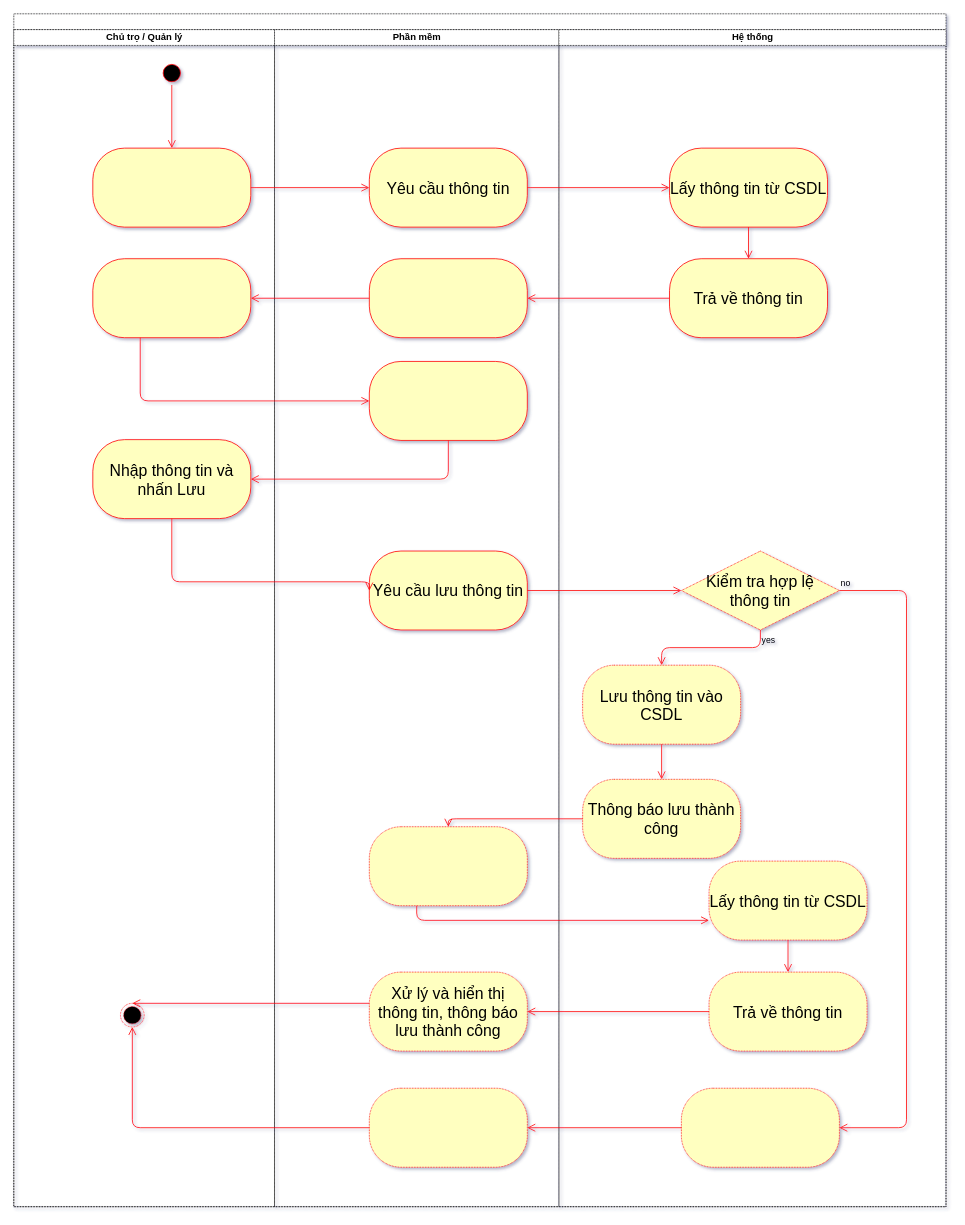
Some shapes in this 965 by 1225 pixel diagram are drawn without their labels. The centre of each missing label's shape, as x and y in pixels:
"Chọn chứa năng thêm / xoá / sửa khoản thu - chi" goes at point (171, 298).
"Chọn chức năng Quản lý thông tin Thu chi" goes at point (171, 187).
"Hiển thị form thông tin chi tiết của khoản thu chi" goes at point (448, 400).
"Thông báo lưu thất bại" goes at point (448, 1127).
"Thông báo thông tin không hợp lệ" goes at point (760, 1127).
"Tiếp nhận và xử lý, hiển thị thông tin" goes at point (448, 298).
"Yêu cầu xuất lại thông tin (vì có thay đổi)" goes at point (448, 866).
